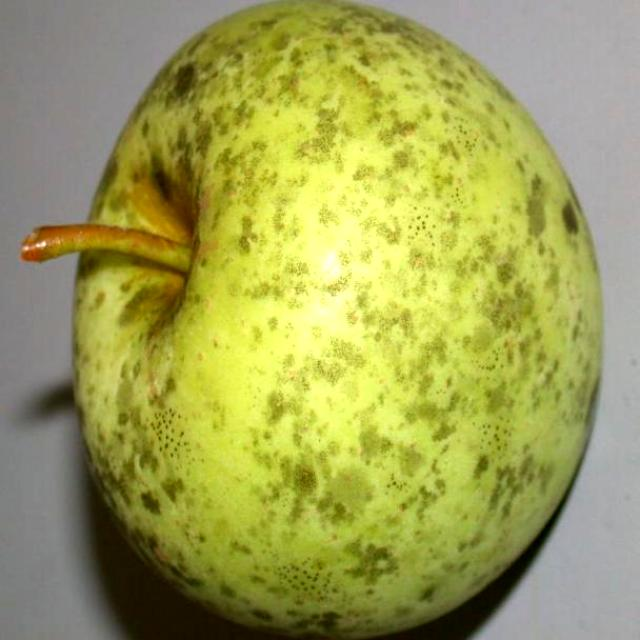BLOTCH: (37, 5, 596, 628)
